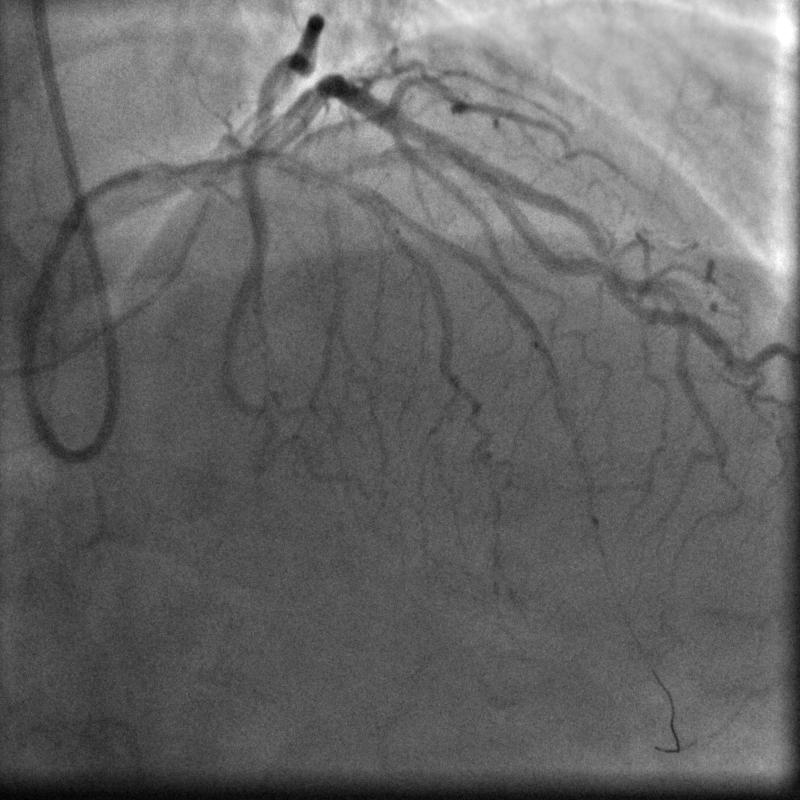Stenosis: (424, 139, 474, 171)
